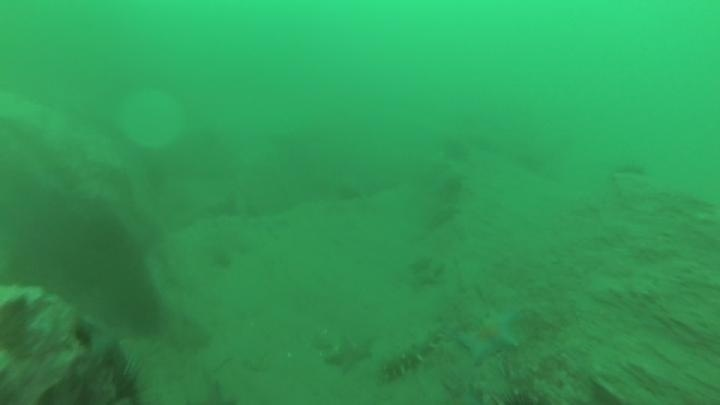holothurian: (377, 318, 449, 383)
starfish: (453, 305, 525, 366), (322, 332, 376, 377)
